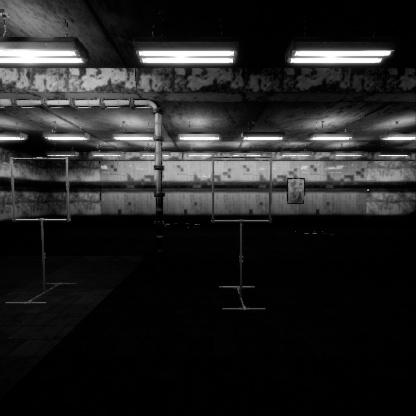gate: (212, 192, 277, 260), (10, 193, 75, 258)
